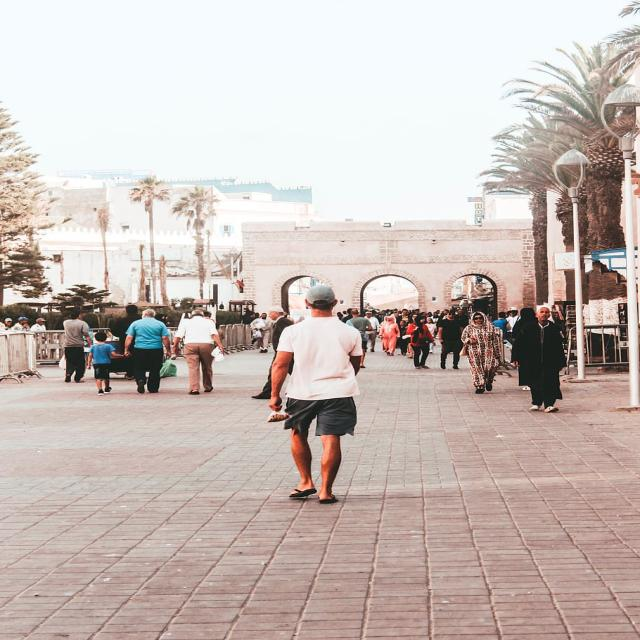adult: (262, 286, 364, 509), (514, 308, 564, 413), (171, 309, 224, 395), (123, 310, 171, 393), (462, 312, 500, 393), (87, 332, 126, 394), (62, 310, 88, 382), (438, 310, 462, 370), (408, 315, 433, 370)
